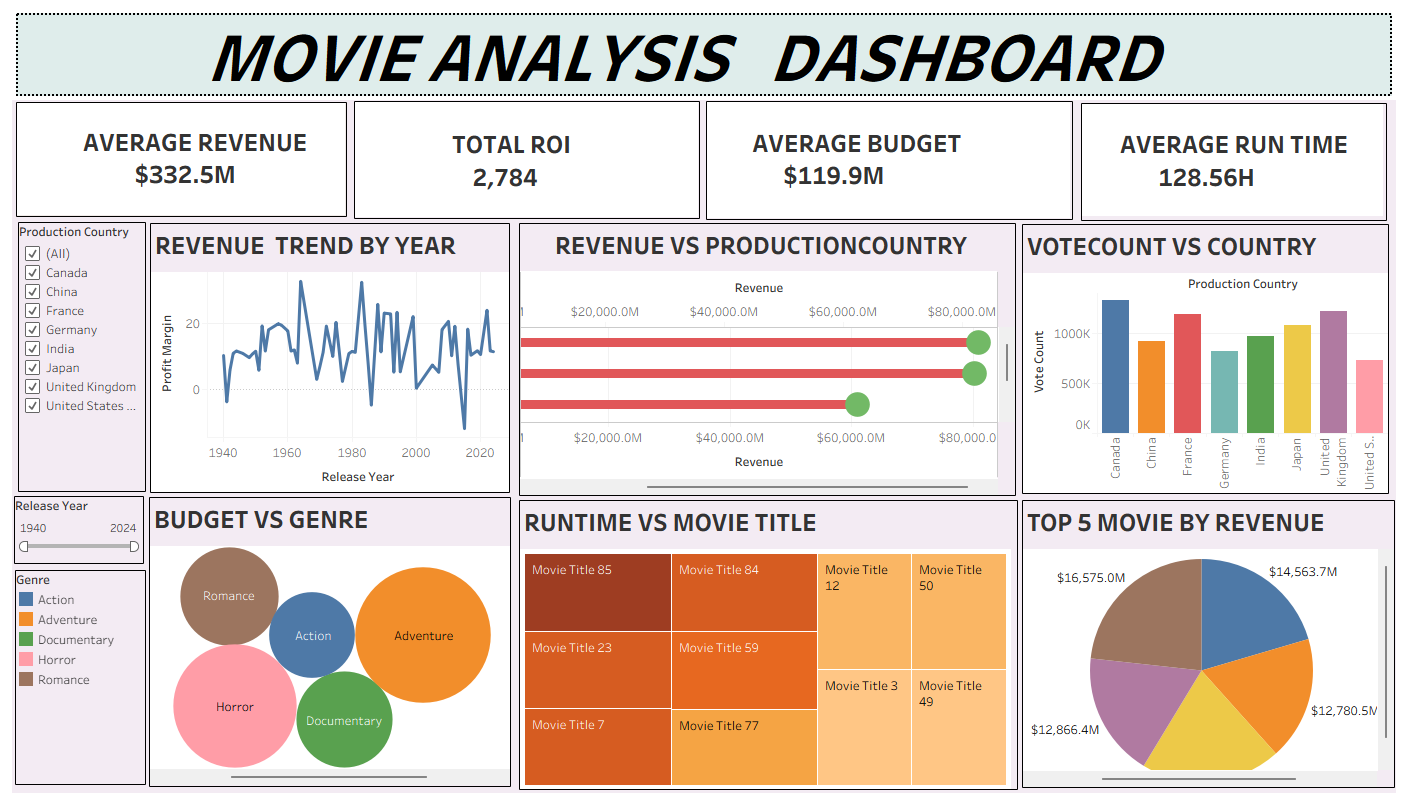

This screenshot's page, from the dashboard's own definition file:
{"tool":"tableau","page":{"name":"DAHBOARD","canvas":[1400,800],"ordinal":0},"visuals":[{"type":"title","box":[8,8,1384,91]},{"type":"worksheet","title":"TOTTAL ROI","mark":"Automatic","box":[350,100,346,118]},{"type":"worksheet","title":"AVG BUDGET","mark":"Automatic","box":[702,100,367,119]},{"type":"worksheet","title":"KPI","mark":"Automatic","box":[12,101,331,115]},{"type":"worksheet","title":"AVG RUN TIME","mark":"Automatic","box":[1077,102,306,118]},{"type":"filter","title":"AVG BUDGET","param":"[federated.0ou1gxr0brinrw1ax3bjs1ewtxb8].[none:production_country:nk]","box":[14,221,128,270]},{"type":"worksheet","title":"LINE CHART","mark":"Automatic","rows":["Profit_Margin"],"cols":["release_year"],"box":[146,222,360,270]},{"type":"worksheet","title":"LOLLYPOP","mark":"Circle","rows":["production_country"],"cols":["revenue","revenue"],"box":[515,222,497,273]},{"type":"worksheet","title":"BAR CHART","mark":"Bar","rows":["vote_count"],"cols":["production_country"],"box":[1018,223,367,270]},{"type":"filter","title":"BAR CHART","param":"[federated.0ou1gxr0brinrw1ax3bjs1ewtxb8].[none:release_year:qk]","box":[10,495,130,68]},{"type":"worksheet","title":"BUDGET BY GENRE","mark":"Circle","box":[145,496,362,290]},{"type":"worksheet","title":"TREE MAP","mark":"Automatic","box":[515,499,499,290]},{"type":"worksheet","title":"PIE CHART","mark":"Pie","box":[1018,499,373,288]},{"type":"legend","title":"BUDGET BY GENRE","param":"[federated.0ou1gxr0brinrw1ax3bjs1ewtxb8].[none:genre:nk]","box":[11,569,131,215]}]}

Visuals, with their boxes in screenshot pixels (x1, y1, x2, y2), scaled from the page's 1400x800 canvas onto the 1410x809 screenshot:
title: left=8, top=8, right=1402, bottom=100
"TOTTAL ROI" worksheet: left=352, top=101, right=701, bottom=220
"AVG BUDGET" worksheet: left=707, top=101, right=1077, bottom=221
"KPI" worksheet: left=12, top=102, right=345, bottom=218
"AVG RUN TIME" worksheet: left=1085, top=103, right=1393, bottom=222
"AVG BUDGET" filter: left=14, top=223, right=143, bottom=497
"LINE CHART" worksheet: left=147, top=224, right=510, bottom=498
"LOLLYPOP" worksheet (Circle marks): left=519, top=224, right=1019, bottom=501
"BAR CHART" worksheet (Bar marks): left=1025, top=226, right=1395, bottom=499
"BAR CHART" filter: left=10, top=501, right=141, bottom=569
"BUDGET BY GENRE" worksheet (Circle marks): left=146, top=502, right=511, bottom=795
"TREE MAP" worksheet: left=519, top=505, right=1021, bottom=798
"PIE CHART" worksheet (Pie marks): left=1025, top=505, right=1401, bottom=796
"BUDGET BY GENRE" legend: left=11, top=575, right=143, bottom=793
